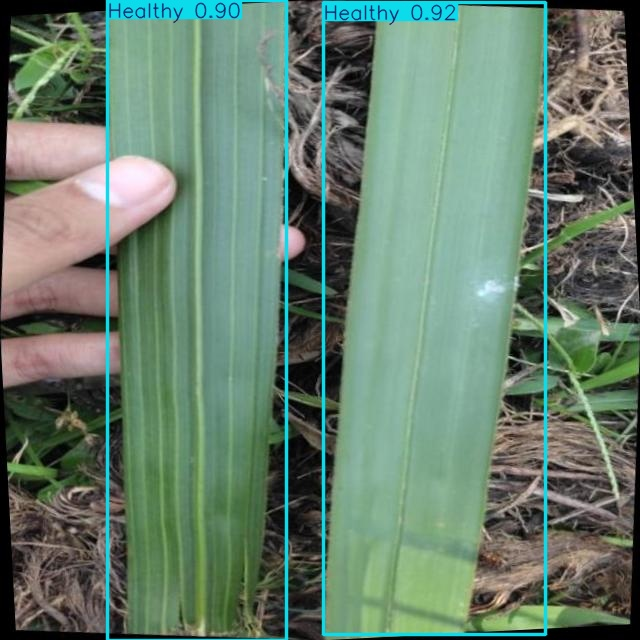Healthy: (324, 3, 545, 635), (107, 1, 287, 640)
